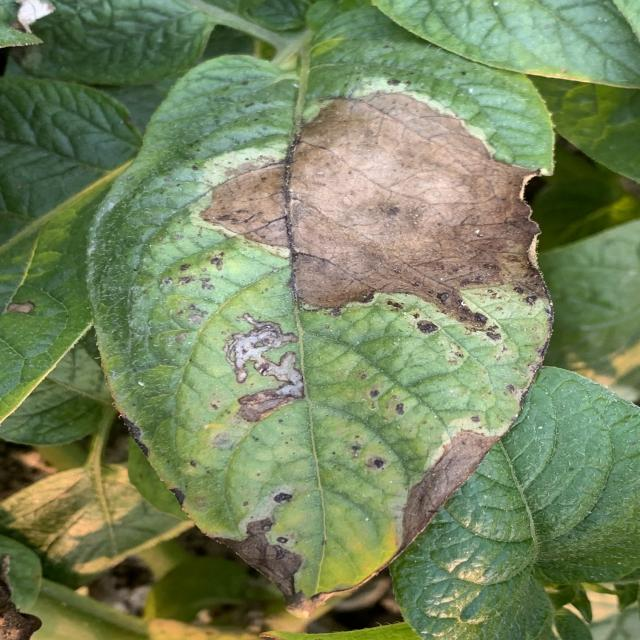lateblight: (203, 92, 547, 326), (217, 518, 335, 618), (400, 430, 498, 550), (223, 314, 305, 422)
